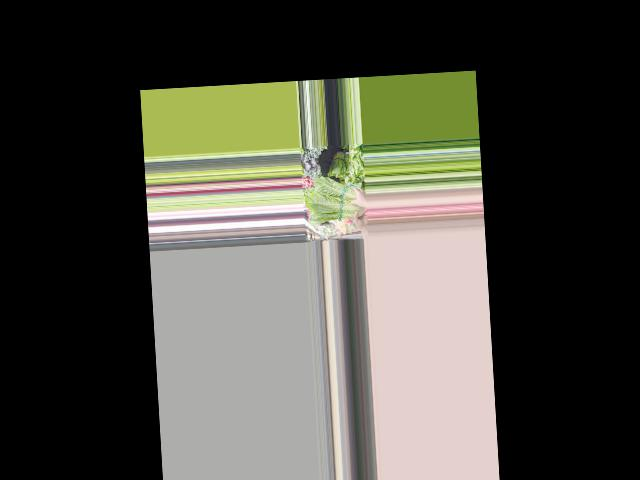lettuce: (306, 173, 368, 224)
